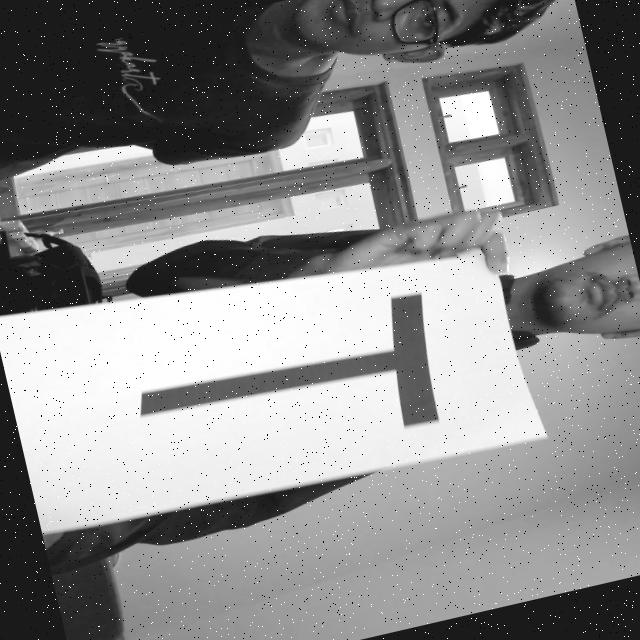t: (98, 263, 478, 509)
